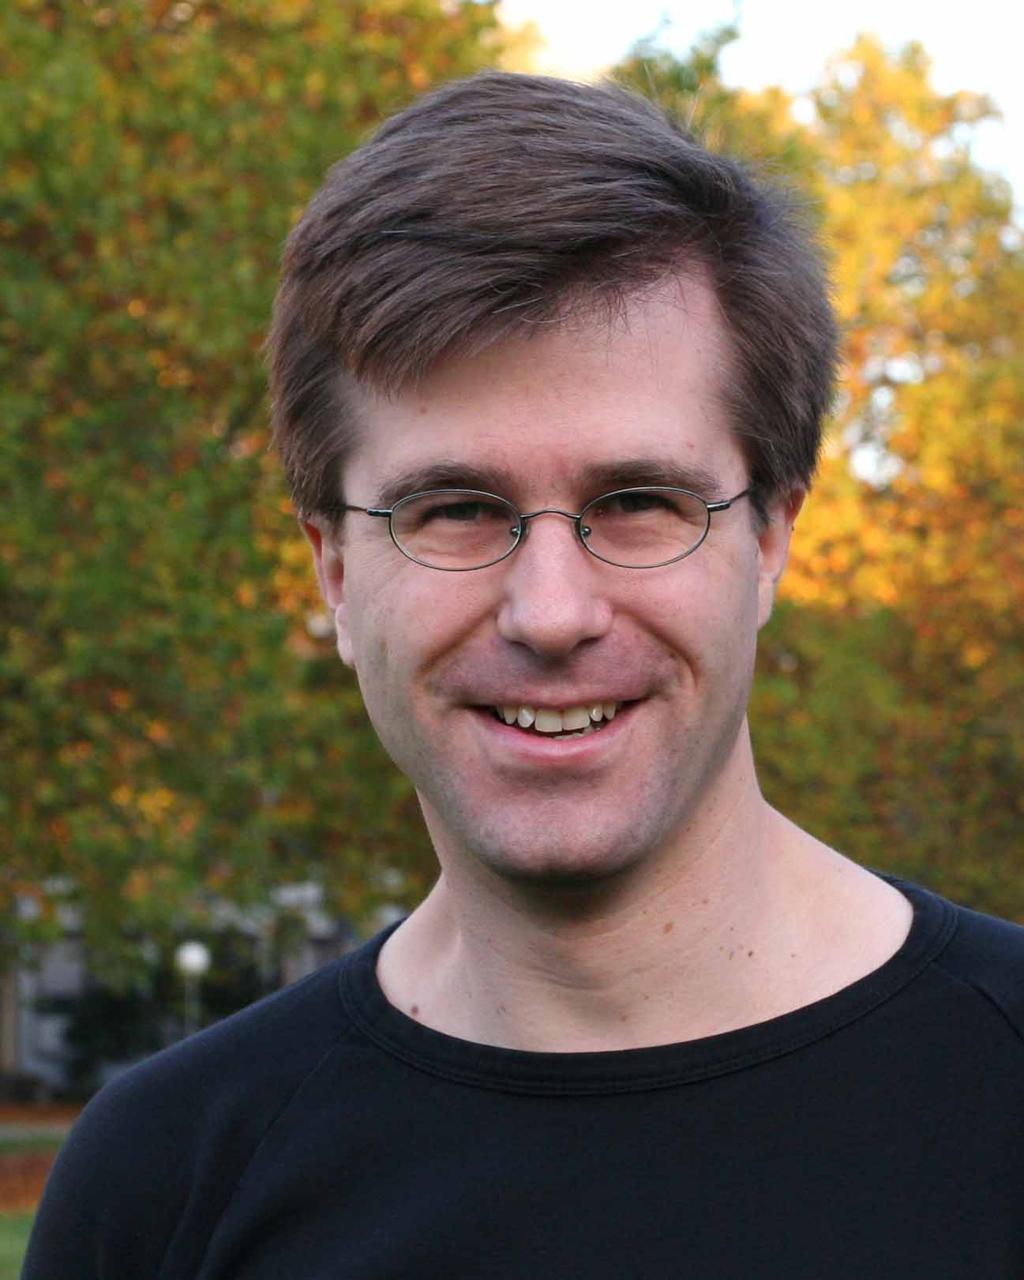face: (342, 262, 752, 876)
